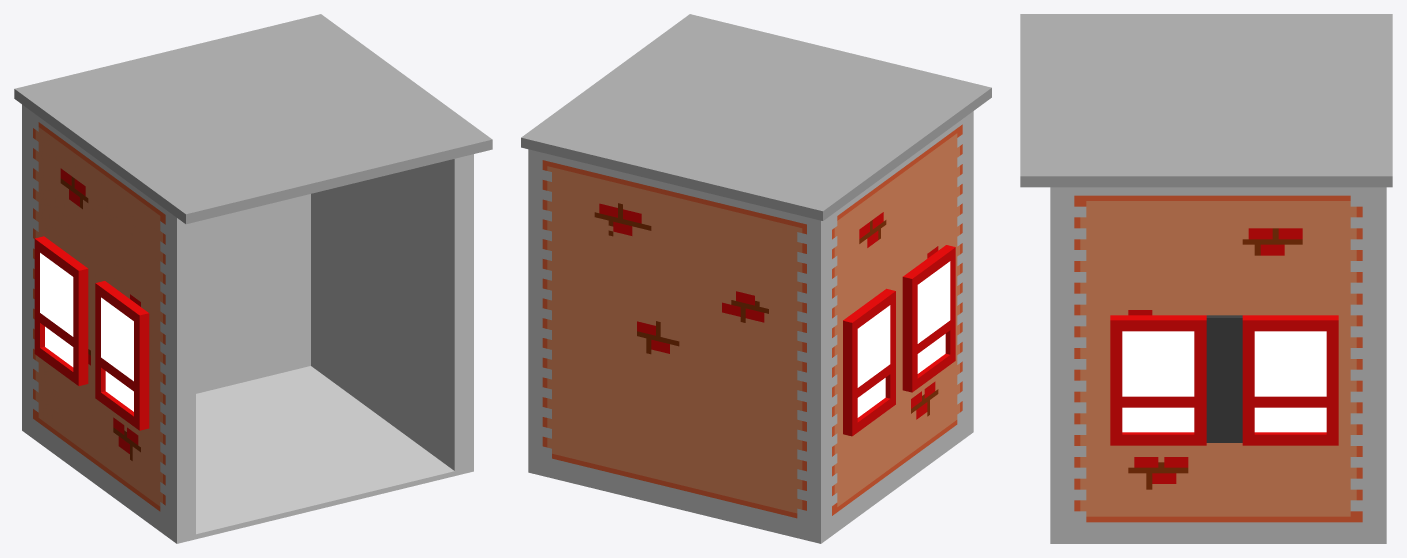
The model's file is TypeTwelve.glb.
3 views of the same model, side by side, from view 1: azimuth 30°, elevation 25°; view 2: azimuth 150°, elevation 25°; view 3: azimuth 270°, elevation 25° (orthographic). The views are drawn at different scales.
Parts seen in each view (by area): view 1: ObjObject; view 2: ObjObject; view 3: ObjObject.
Part boxes in pixels (x1,y1,x2,y2): ObjObject: [14, 14, 492, 543]; ObjObject: [521, 14, 991, 543]; ObjObject: [1020, 14, 1392, 543].
Bounding box in the file's own units: 6.6 × 6.8 × 6.2.
2 materials, 1 textured.
